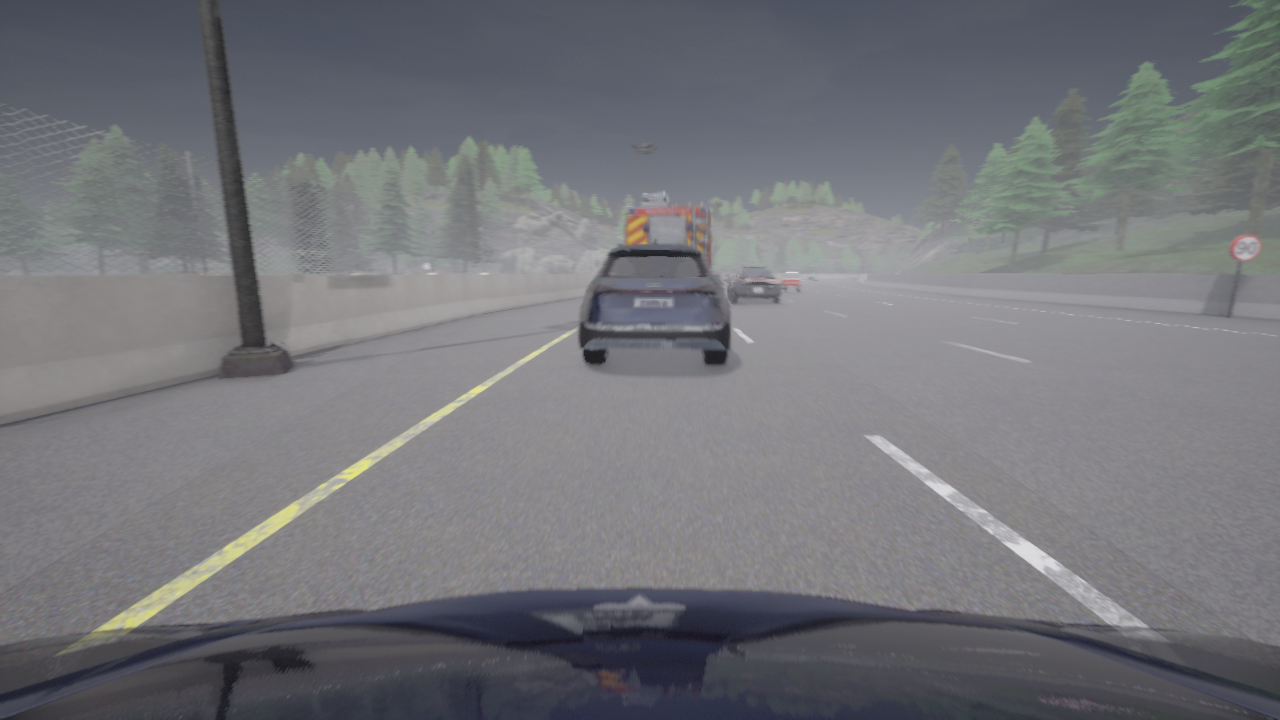cyclist: (0, 588, 1279, 719), (580, 240, 730, 365), (625, 192, 711, 267), (728, 266, 782, 303), (780, 271, 802, 292), (712, 270, 724, 284), (722, 271, 735, 282), (810, 273, 818, 279)
